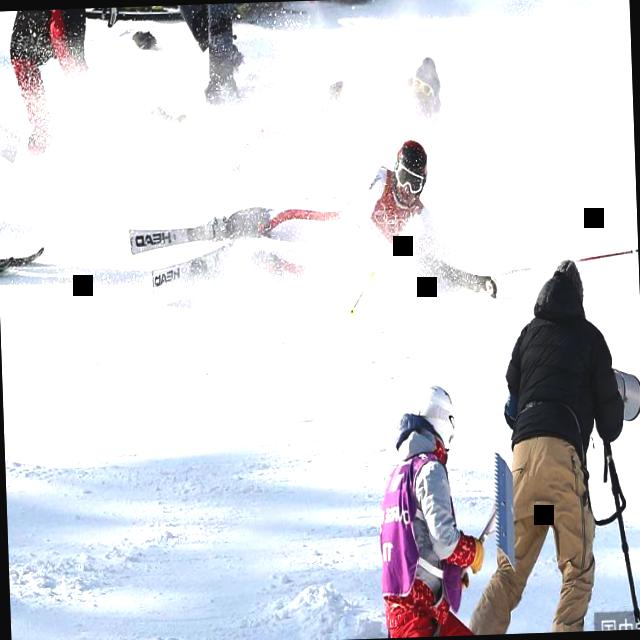Fall-Detected: (111, 122, 489, 326)
